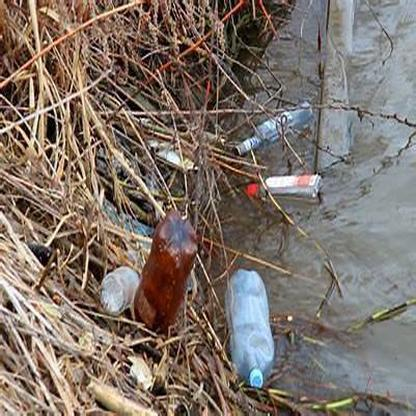plastic bottle: (134, 212, 197, 332), (224, 268, 276, 388), (233, 102, 314, 155)
